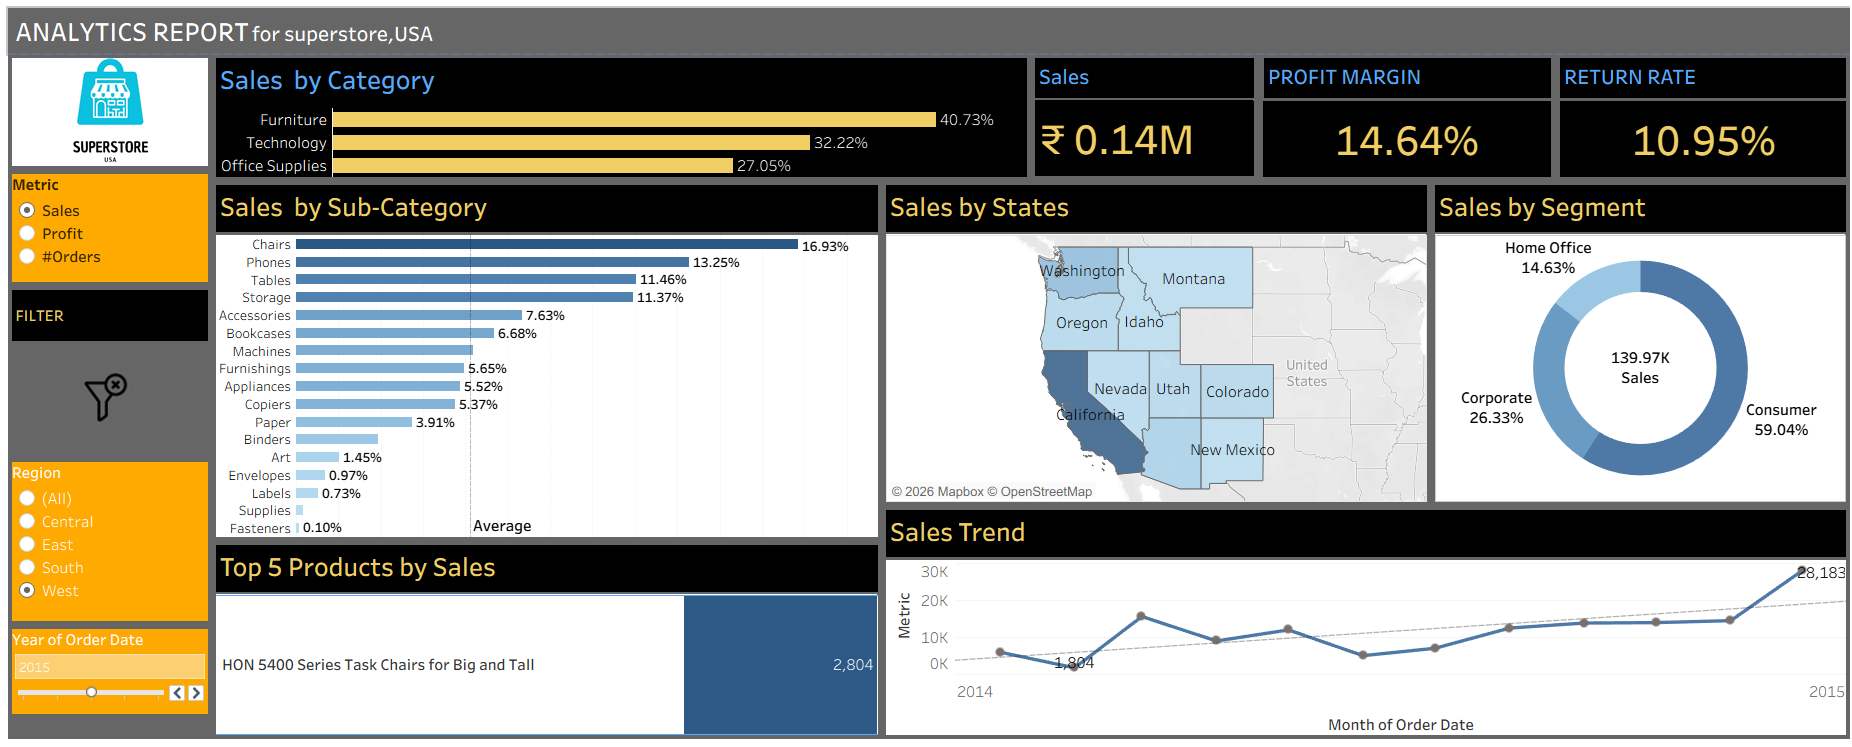

The page's visual inventory and layout, read from the dashboard file:
{"tool":"tableau","page":{"name":"Dashboard","canvas":[1000,1000],"units":"permille","ordinal":0},"visuals":[{"type":"text","box":[4.3,10.7,991.4,61.1]},{"type":"image","param":"Image/Screenshot 2026-02-12 171741.png","box":[4.3,71.8,109.7,155.5]},{"type":"worksheet","title":"Category","mark":"Automatic","rows":["Category"],"cols":["Calculation_0278764212854786"],"box":[114,71.8,440.9,170.5]},{"type":"worksheet","title":"Metric","mark":"Text","box":[554.8,71.8,122.6,170.5]},{"type":"worksheet","title":"ProfitMargin","mark":"Automatic","box":[677.5,71.8,159.4,170.5]},{"type":"worksheet","title":"ReturnRate","mark":"Automatic","box":[836.9,71.8,158.8,170.5]},{"type":"parameter","param":"[Parameters].[Parameter 2]","box":[4.3,227.3,109.7,155.5]},{"type":"worksheet","title":"Subcategory","mark":"Automatic","rows":["Sub-Category"],"cols":["Calculation_0278764212854786"],"box":[114,242.3,360.5,481.9]},{"type":"worksheet","title":"Map","mark":"Automatic","box":[474.5,242.3,295.4,435.1]},{"type":"worksheet","title":"Segment","mark":"Pie","rows":["Calculation_0278764253388816","Calculation_0278764253388816"],"box":[769.9,242.3,225.8,435.1]},{"type":"text","box":[4.3,382.8,109.7,79]},{"type":"blank","box":[4.3,461.8,109.7,151.3]},{"type":"dashboard-object","box":[31.3,490,47.2,76.3]},{"type":"filter","title":"Category","param":"[federated.05jfj8a09tk1g013rpddi0n7tg0s].[none:Region:nk]","box":[4.3,613.1,109.7,223.6]},{"type":"worksheet","title":"Trend","mark":"Line","rows":["Calculation_0278764212854786","Calculation_0278764212854786"],"cols":["Order Date"],"box":[474.5,677.3,521.2,311.9]},{"type":"worksheet","title":"Products","mark":"Square","rows":["Product Name"],"box":[114,724.2,360.5,265.1]},{"type":"filter","title":"Category","param":"[federated.05jfj8a09tk1g013rpddi0n7tg0s].[yr:Order Date:ok]","box":[4.3,836.7,109.7,124.5]}]}

Visuals, with their boxes on the dashboard's canvas, which has no fixed pixel size, in thousandths of its width and height (x1, y1, x2, y2). These are canvas units, not pixel positions in the 1852x747 screenshot, which may show the page scaled, cropped or inside an application window:
text: region(4, 11, 996, 72)
image: region(4, 72, 114, 227)
"Category" worksheet: region(114, 72, 555, 242)
"Metric" worksheet (Text marks): region(555, 72, 677, 242)
"ProfitMargin" worksheet: region(678, 72, 837, 242)
"ReturnRate" worksheet: region(837, 72, 996, 242)
parameter: region(4, 227, 114, 383)
"Subcategory" worksheet: region(114, 242, 474, 724)
"Map" worksheet: region(474, 242, 770, 677)
"Segment" worksheet (Pie marks): region(770, 242, 996, 677)
text: region(4, 383, 114, 462)
blank: region(4, 462, 114, 613)
dashboard-object: region(31, 490, 78, 566)
"Category" filter: region(4, 613, 114, 837)
"Trend" worksheet (Line marks): region(474, 677, 996, 989)
"Products" worksheet (Square marks): region(114, 724, 474, 989)
"Category" filter: region(4, 837, 114, 961)
